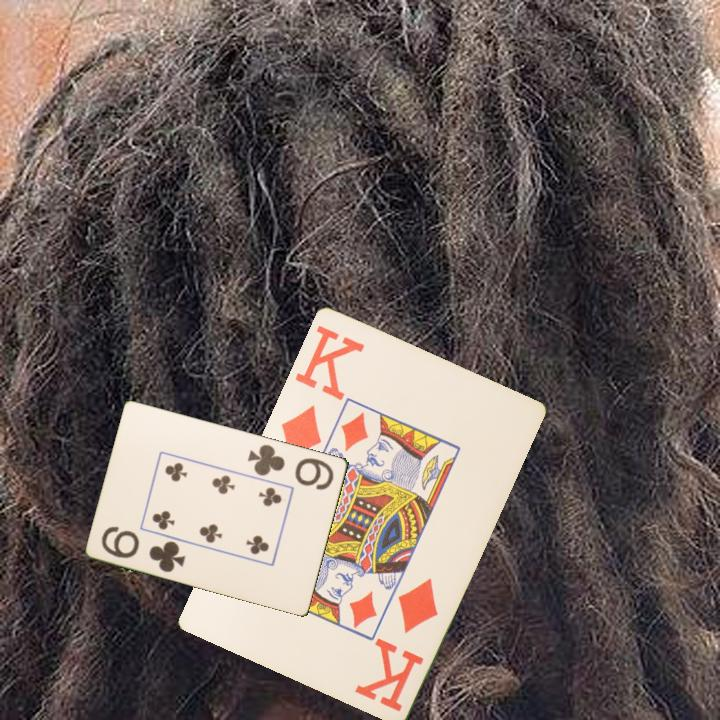6c: (245, 440, 337, 493), (98, 522, 189, 575)
Kd: (277, 321, 367, 464), (352, 573, 441, 714)
